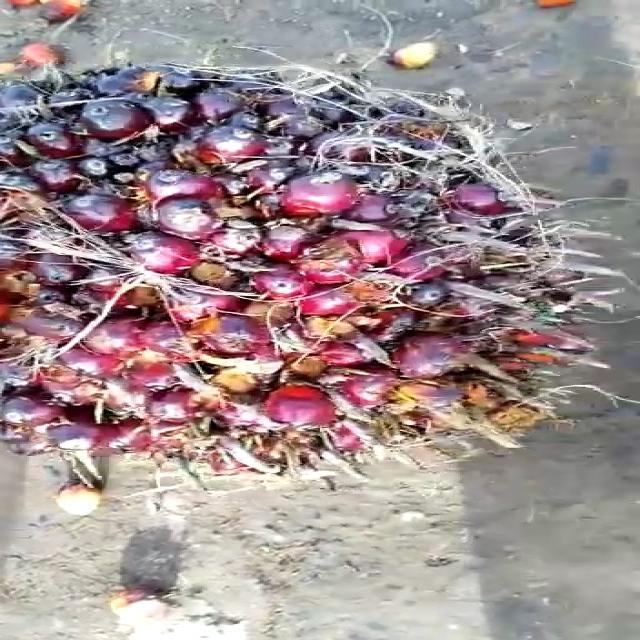palm oil: (0, 39, 640, 483)
